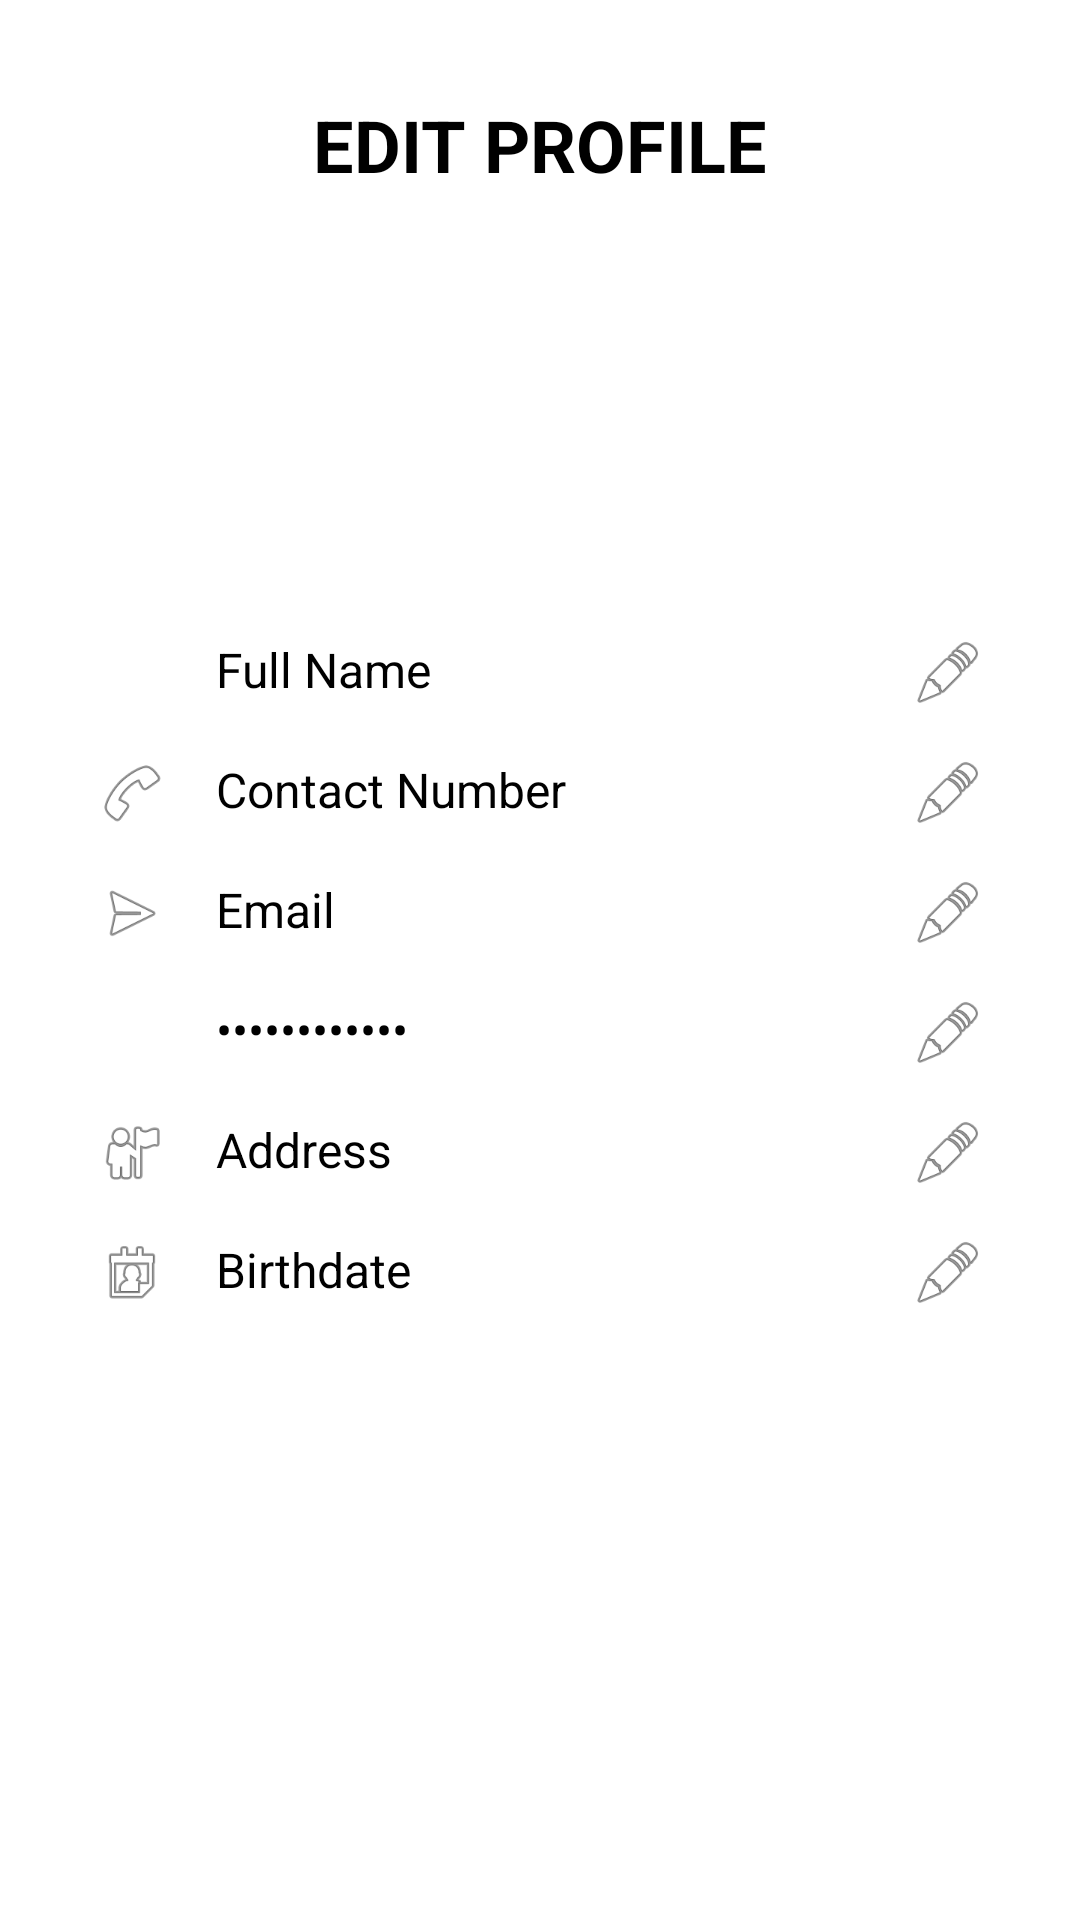

Named icons in this screenshot (1080*1920) and their bounding boxes, (x1, y1, x2, y2):
calendar: (109, 1246, 155, 1299)
call: (104, 765, 161, 822)
edit: (917, 642, 978, 703), (917, 762, 978, 823), (917, 882, 978, 943), (917, 1002, 978, 1063), (917, 1122, 978, 1183), (917, 1242, 978, 1303)
myplaces: (106, 1126, 160, 1180)
send: (109, 891, 156, 936)
